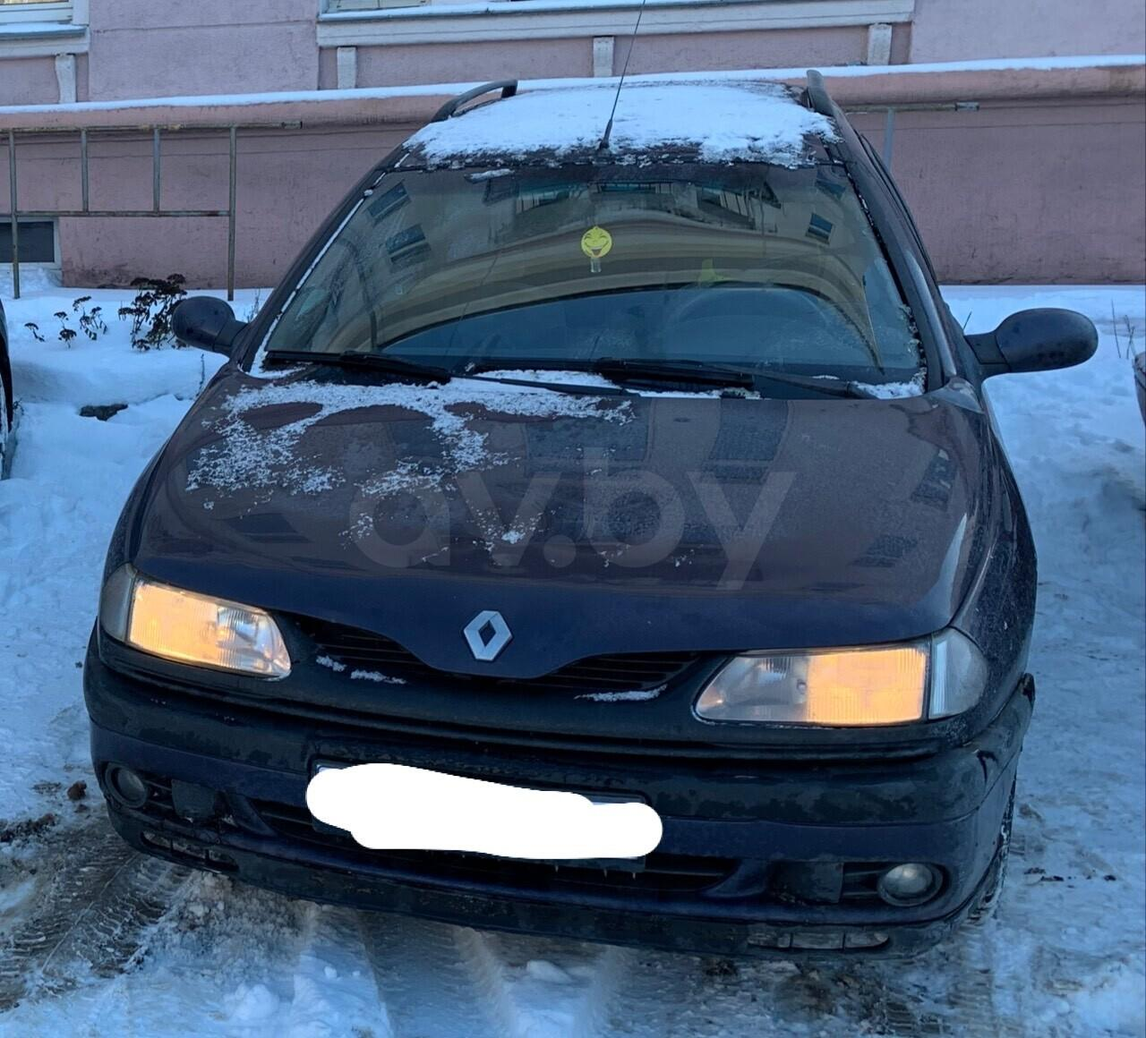Lahuna_1993-1999: (76, 67, 1071, 953)
